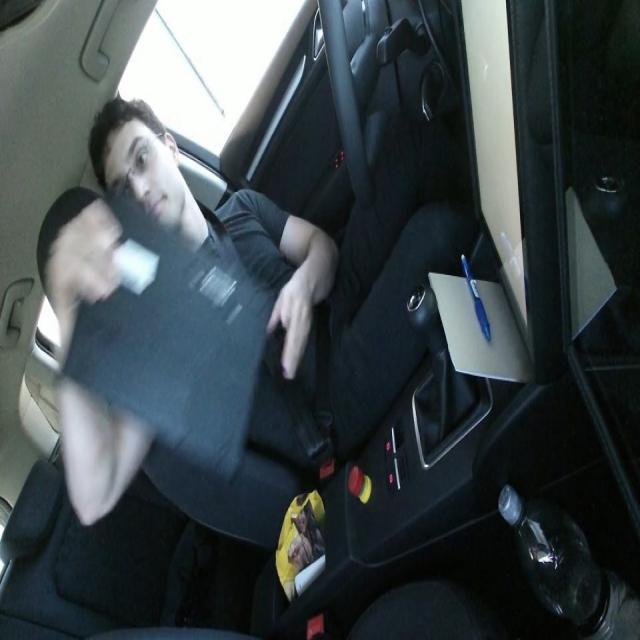laptop: (62, 191, 272, 489)
pen: (460, 250, 491, 343)
